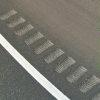Crosswalk: (4, 10, 97, 94)
